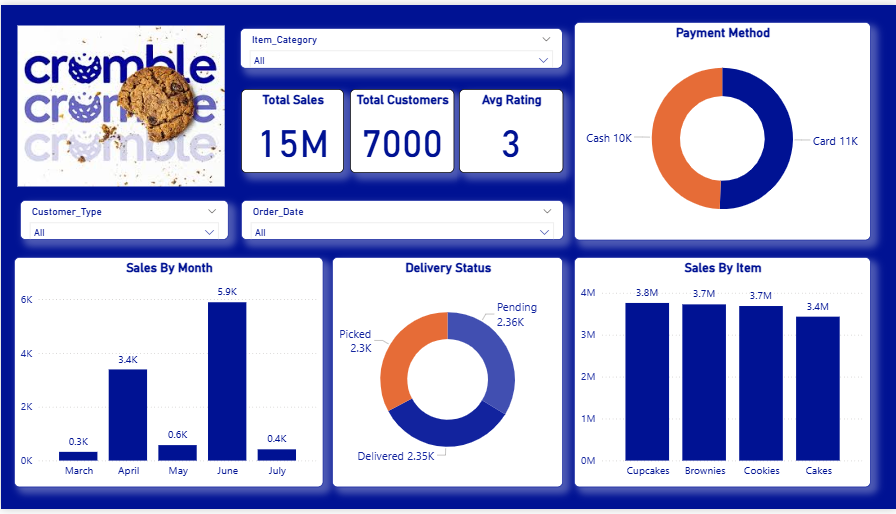

The page's visual inventory and layout, read from the dashboard file:
{"tool":"powerbi","page":{"name":"Page 2","canvas":[1280,720],"ordinal":1},"visuals":[{"type":"card","title":"Total Sales","fields":{"Values":["Sum(Sheet1.Total_Sale)"]},"box":[343,120.5,147.4,120.5],"z":0},{"type":"card","title":"Total Customers","fields":{"Values":["Sheet1.Total Customers"]},"box":[498.9,120.5,148.8,120.5],"z":1000},{"type":"card","title":"Avg Rating","fields":{"Values":["Sheet1.Average Rating"]},"box":[654.8,120.5,148.8,120.5],"z":2000},{"type":"clusteredColumnChart","title":"Sales By Month","fields":{"Y":["Sum(Sheet1.Total_Sale)"],"Category":["Sheet1.Order_Date.Variation.Date Hierarchy.Month"]},"box":[18.4,360,442.2,328.8],"z":3000},{"type":"columnChart","title":"Sales By Item","fields":{"Y":["Sum(Sheet1.Total_Sale)"],"Category":["Sheet1.Item_Category"]},"box":[819.2,360,423.8,328.8],"z":4000},{"type":"donutChart","title":"Payment Method","fields":{"Category":["Sheet1.Payment_Method"],"Y":["Sum(Sheet1.Customer_Rating)"]},"box":[819.2,24.1,423.8,311.8],"z":5000},{"type":"slicer","fields":{"Values":["Sheet1.Order_Date"]},"box":[343,279.2,460.6,56.7],"z":6000},{"type":"slicer","fields":{"Values":["Sheet1.Item_Category"]},"box":[341.9,33.5,460.6,58.1],"z":7000},{"type":"slicer","fields":{"Values":["Sheet1.Customer_Type"]},"box":[26.9,279.2,297.6,56.7],"z":8000},{"type":"donutChart","title":"Delivery Status","fields":{"Y":["CountNonNull(Sheet1.Product_Category)"],"Category":["Sheet1.Delivery_Status"]},"box":[473.4,360,330.2,328.8],"z":9000},{"type":"image","box":[18.4,24.1,306.1,239.5],"z":10000}]}

Visuals, with their boxes in screenshot pixels (x1, y1, x2, y2), scaled from the page's 1280x720 canvas onto the 896x514 screenshot:
"Total Sales" card: (240, 86, 343, 172)
"Total Customers" card: (349, 86, 453, 172)
"Avg Rating" card: (458, 86, 563, 172)
"Sales By Month" clusteredColumnChart: (13, 257, 322, 492)
"Sales By Item" columnChart: (573, 257, 870, 492)
"Payment Method" donutChart: (573, 17, 870, 240)
slicer - Sheet1.Order_Date: (240, 199, 563, 240)
slicer - Sheet1.Item_Category: (239, 24, 562, 65)
slicer - Sheet1.Customer_Type: (19, 199, 227, 240)
"Delivery Status" donutChart: (331, 257, 563, 492)
image: (13, 17, 227, 188)
